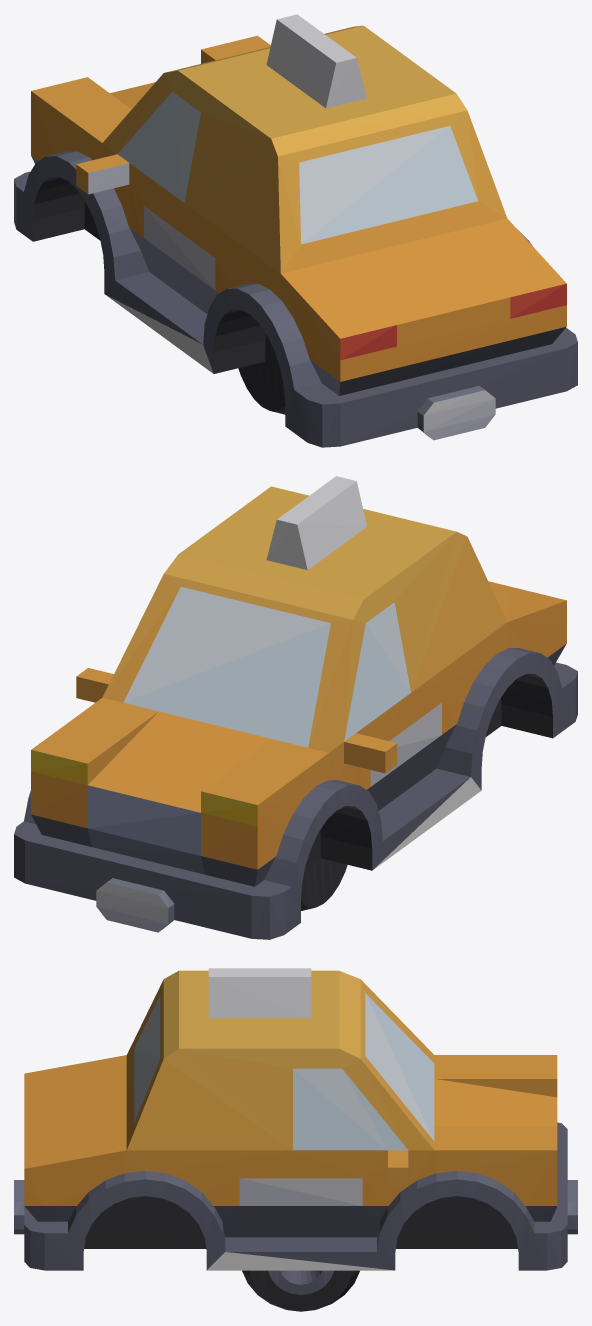
Rendered from taxi.glb.
The picture shows the model from 3 angles, top to bottom: view 1: azimuth 30°, elevation 25°; view 2: azimuth 150°, elevation 25°; view 3: azimuth 270°, elevation 25°; orthographic projection. The views are drawn at different scales.
Parts seen in each view (by area): view 1: trim, wheel, paint; view 2: trim, wheel, paint; view 3: trim, wheel, paint.
Boxes of the visible parts, x1,y1,x2,y2 form: trim: (14, 14, 577, 447); wheel: (238, 361, 285, 414); paint: (105, 294, 213, 373); trim: (14, 476, 577, 939); wheel: (301, 858, 347, 910); paint: (373, 777, 481, 869); trim: (14, 968, 577, 1270); wheel: (242, 1270, 359, 1311); paint: (207, 1252, 394, 1270).
Bounding box in the file's own units: 1.5 × 1.8 × 2.75.
